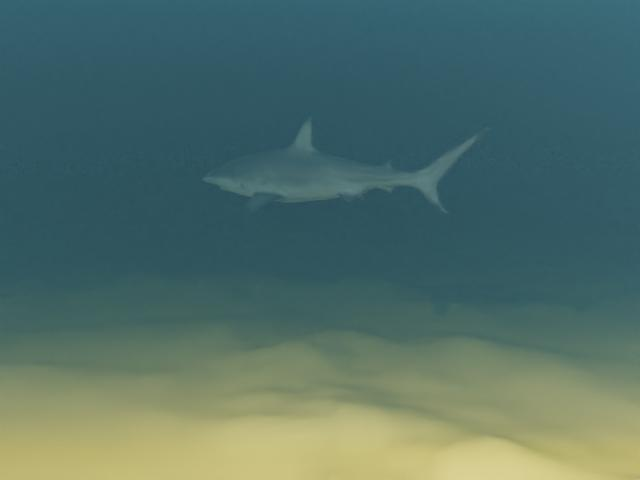Carribean Shark.001: (202, 116, 488, 215)
